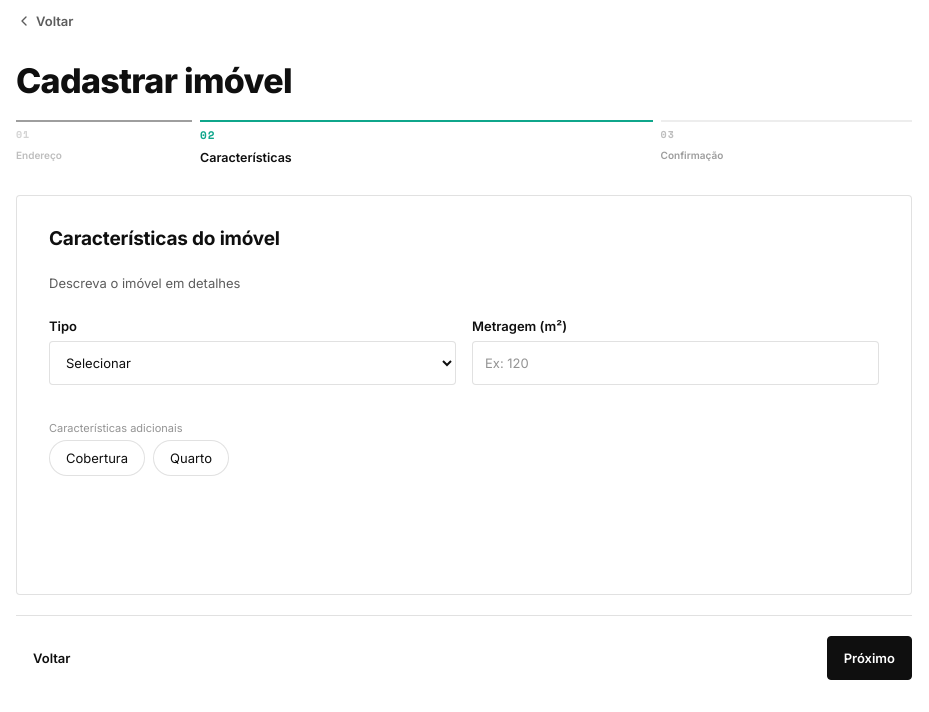
Test: PropertyWizard Component › hides Quantos and clears the count when the quarto chip is turned off
The width and height of the screenshot is (929, 712).
Click the button "Quarto".
click(191, 458)  # box [153, 440, 229, 476]
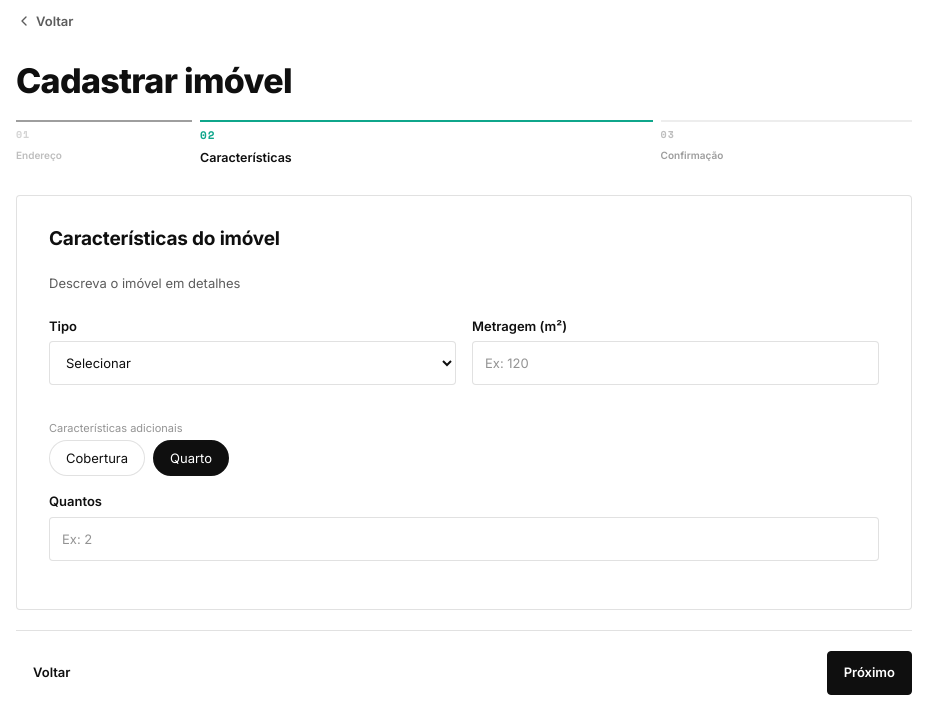
Type "3" into the number field labelled "Quantos".
click(464, 538); type("3")  # box [49, 516, 879, 560]
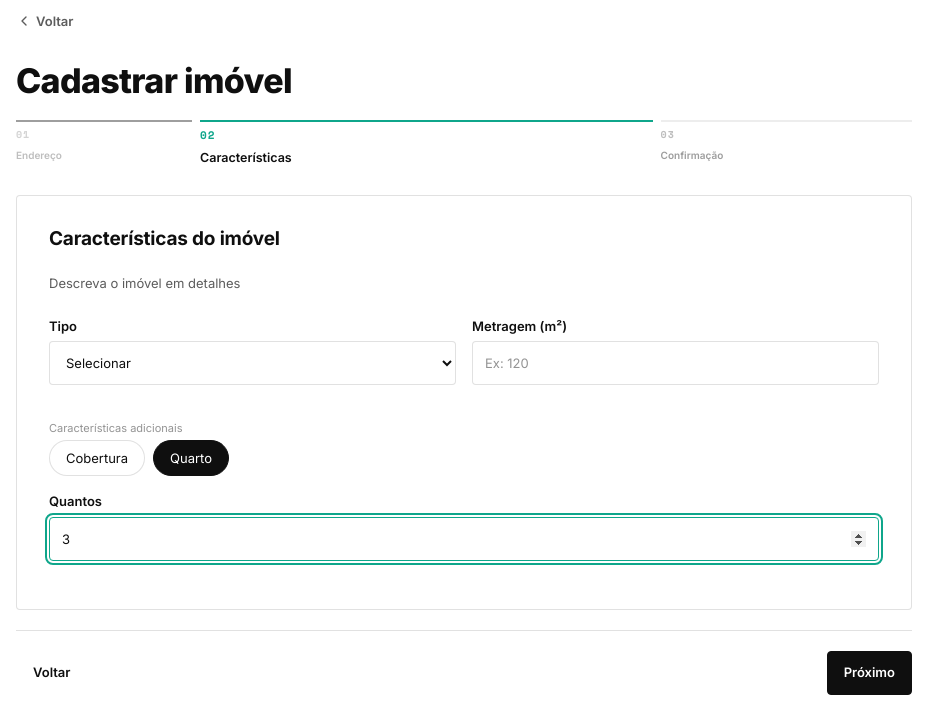
Click the button "Quarto".
click(191, 458)  # box [153, 440, 229, 476]
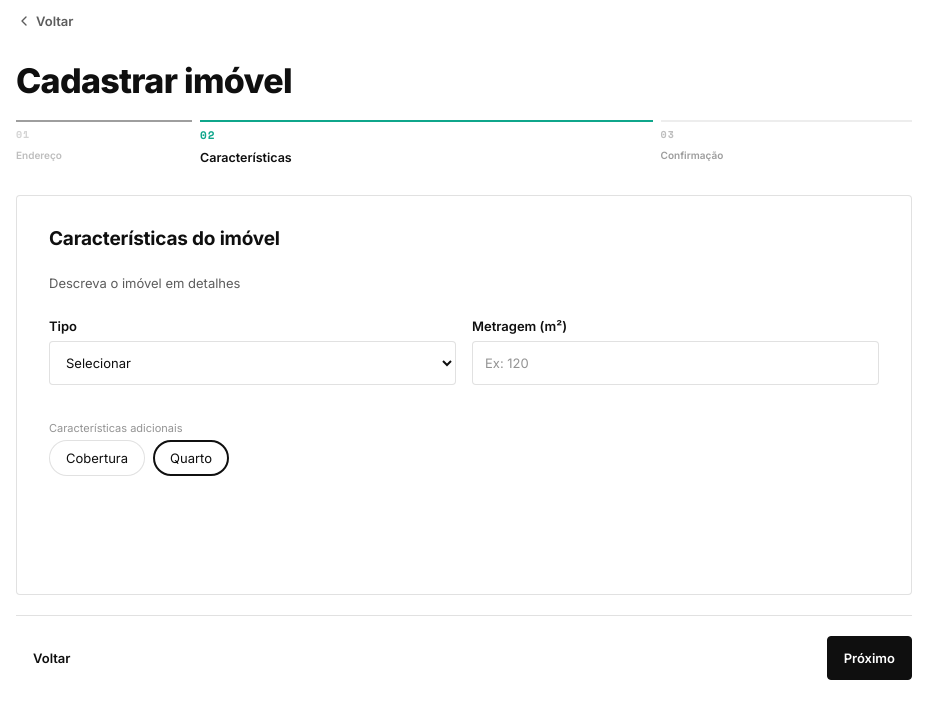
Expected: the label labelled "Quantos" is gone
